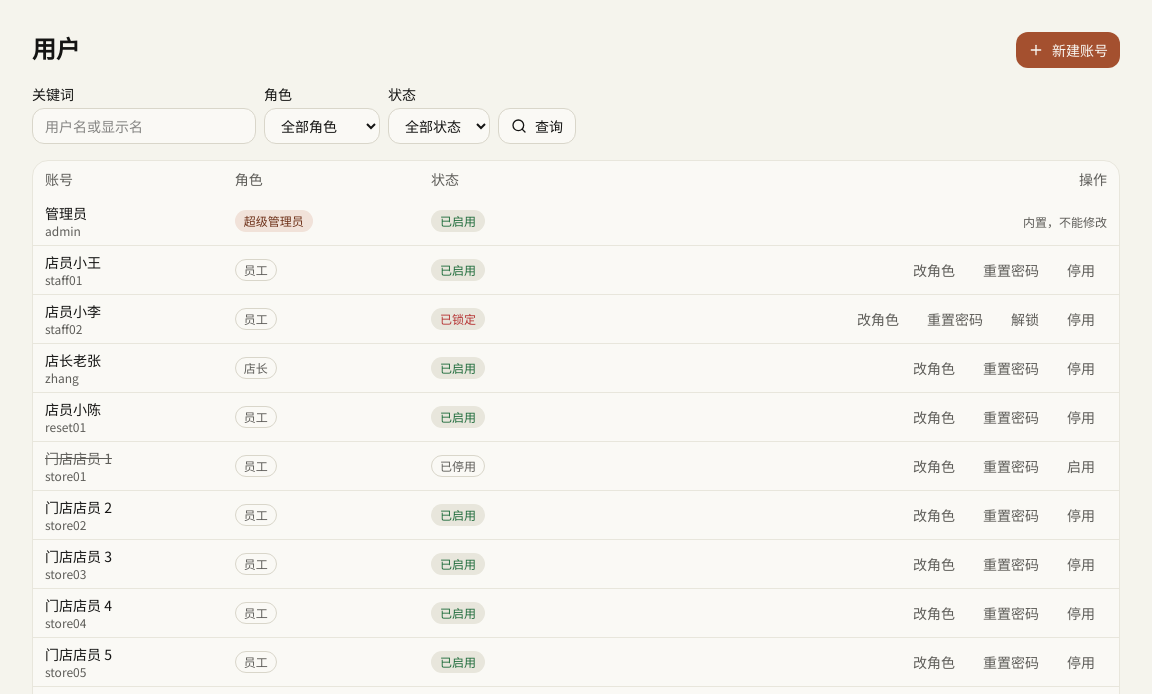
Test: 用户管理页 › 新建账号在弹窗里做，要选角色；用户名重复时提示
This screenshot has width=1152, height=694.
Click the button "新建账号". click: coordinates (1068, 50)
box: [1016,32,1120,68]
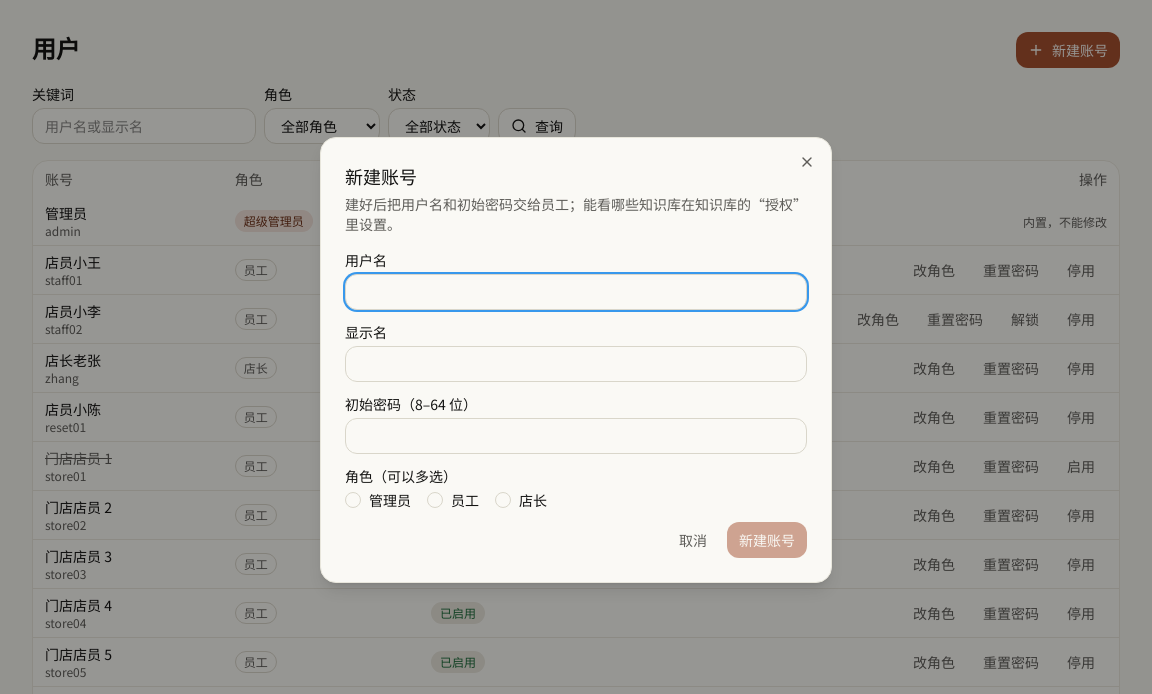
Type "staff01" into the field labelled "用户名". click: coordinates (576, 292)
box: [345,274,807,310]
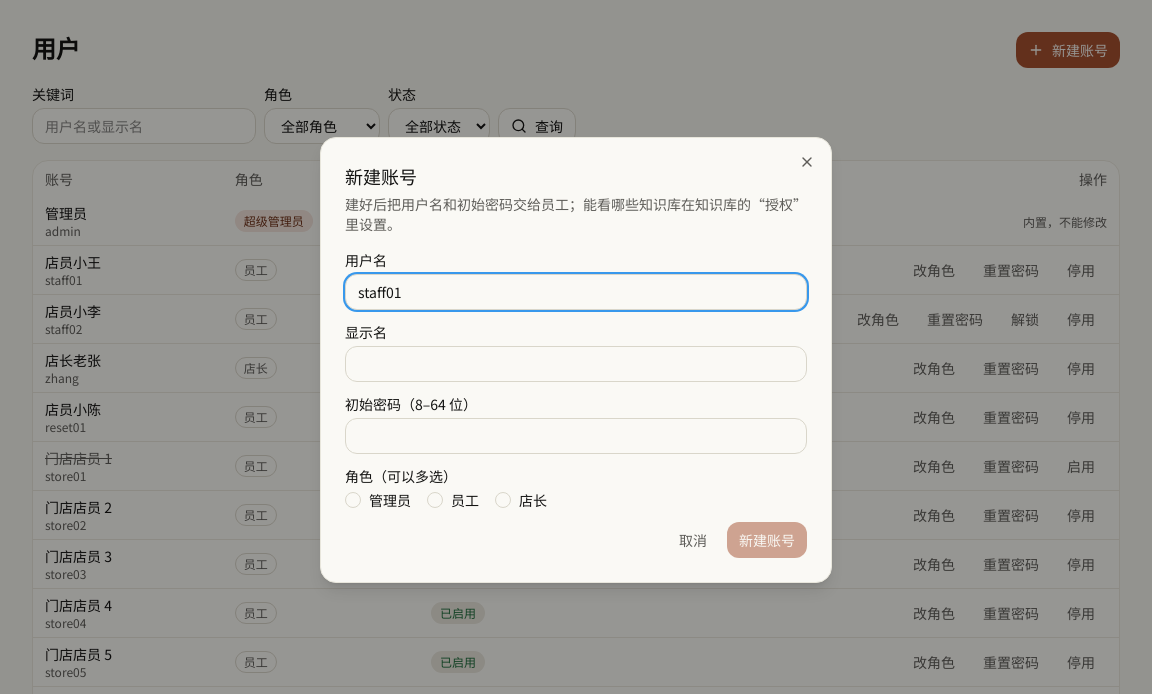
Type "重复" into the field labelled "显示名". click: coordinates (576, 364)
box: [345,346,807,382]
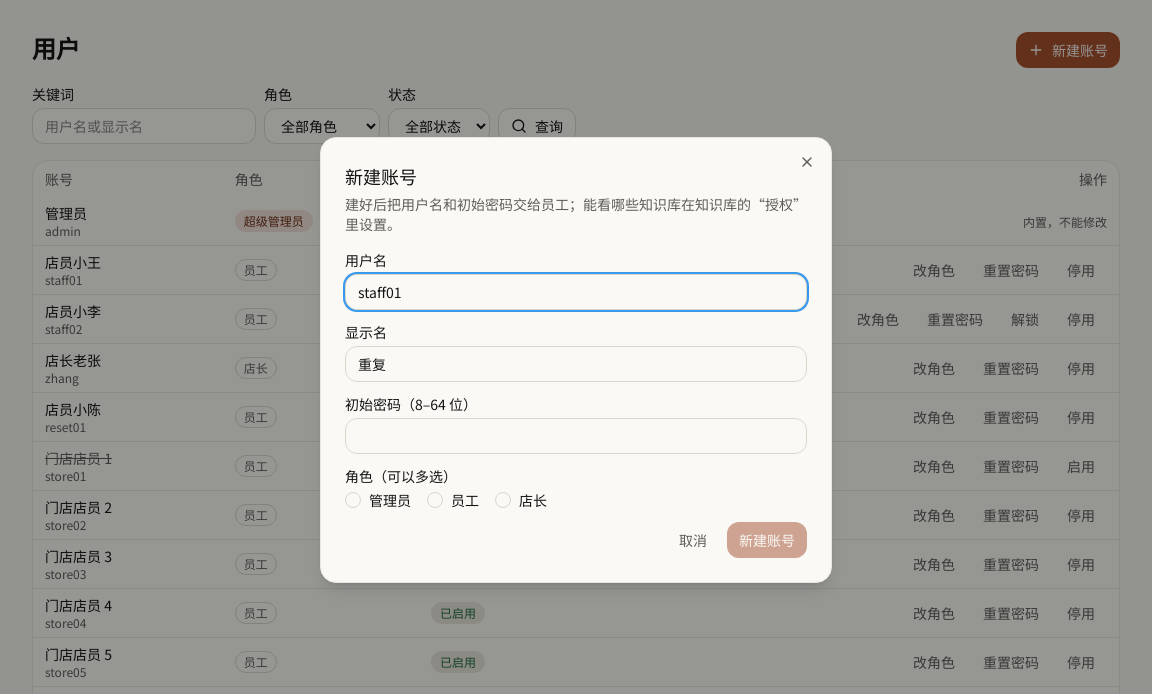
Type "password-1" into the password field labelled "初始密码（8–64 位）". click: coordinates (576, 436)
box: [345,418,807,454]
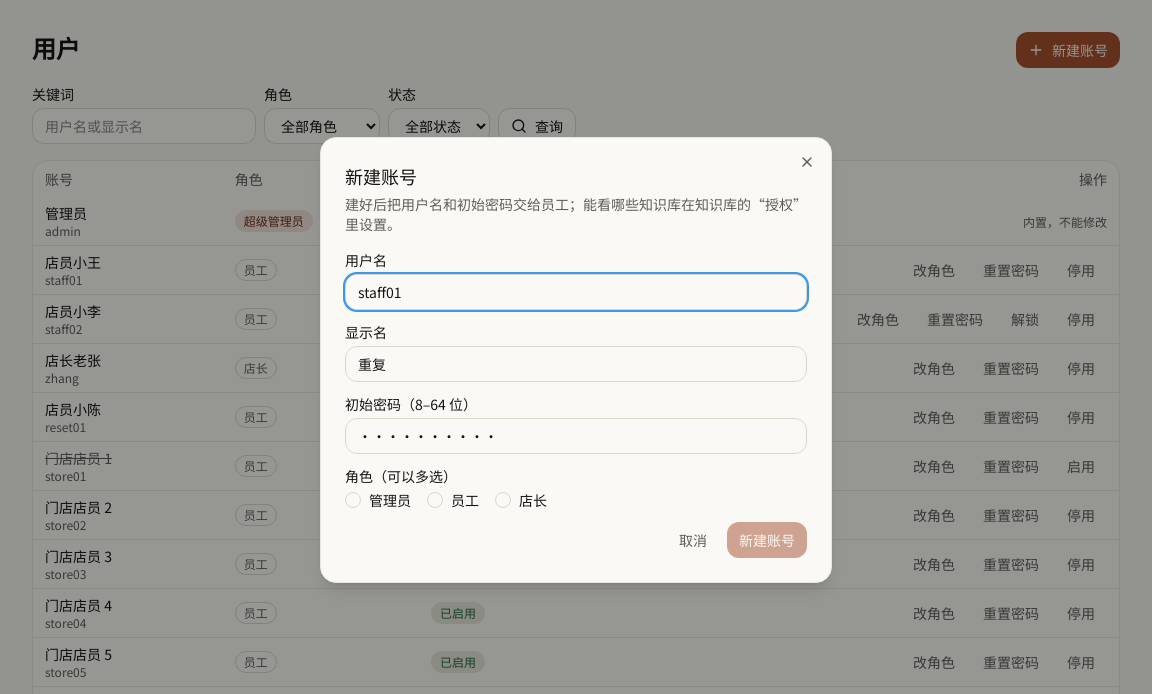
Now the button "新建账号" is disabled, box [727,522,807,558]
Click the 2nd checkbox named "员工". click: coordinates (435, 500)
box: [427,492,443,508]
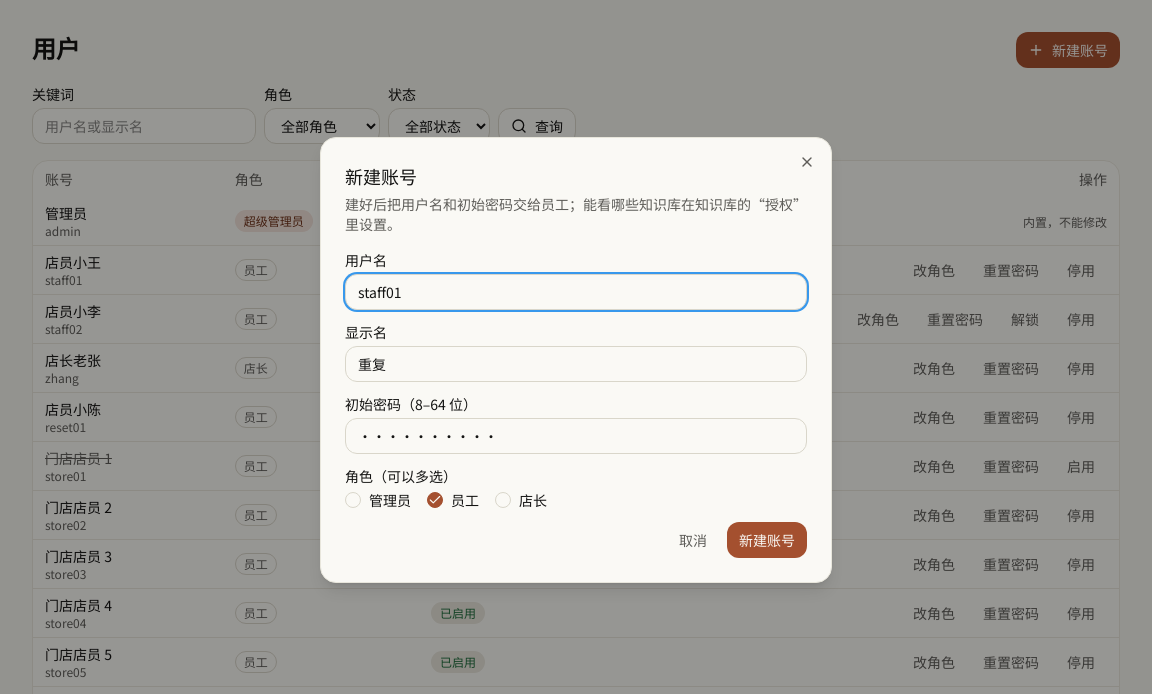
Click the button "新建账号". click: coordinates (767, 540)
box: [727,522,807,558]
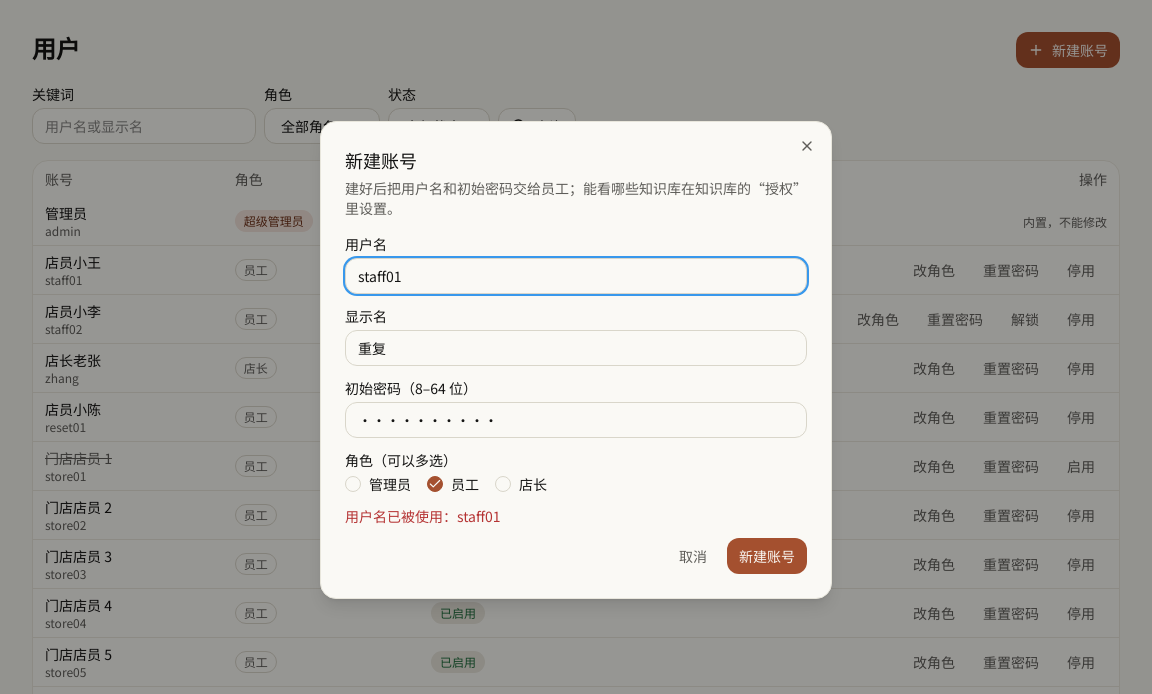
Now the text "用户名已被使用：staff01" is shown, box [345,506,500,526]
